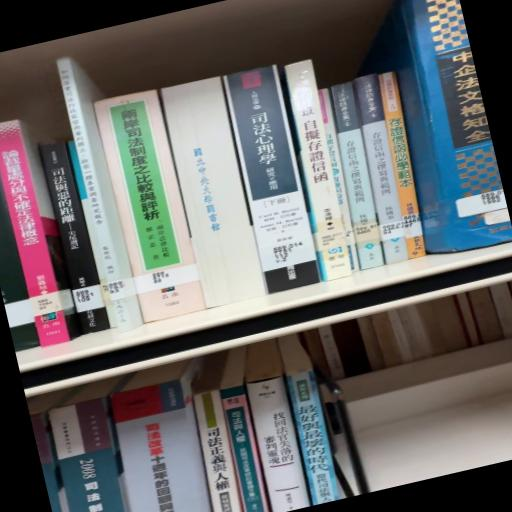backward: (156, 75, 274, 312)
book: (362, 0, 512, 259), (221, 62, 332, 298), (52, 52, 152, 305), (273, 55, 364, 282), (88, 88, 195, 276), (0, 121, 70, 354), (273, 332, 344, 506), (346, 73, 414, 232), (241, 375, 314, 512), (184, 387, 249, 512), (216, 388, 272, 512), (0, 148, 32, 308)
